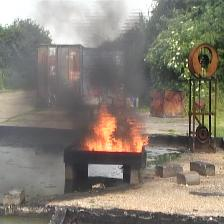fire: (86, 105, 149, 152)
